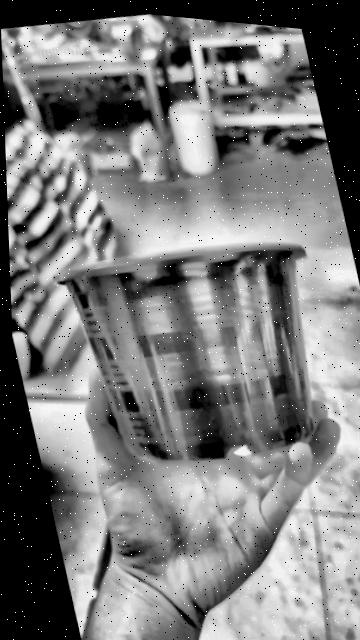pot: (54, 246, 310, 461)
